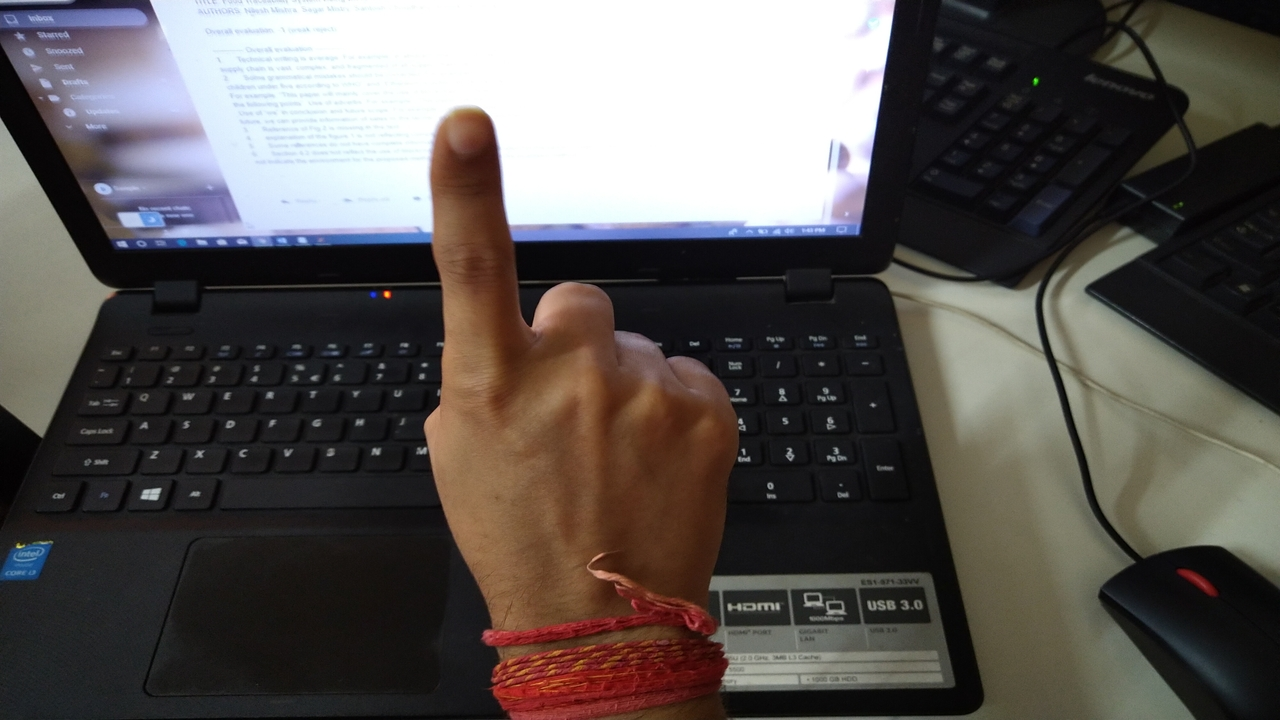fingertip: (426, 106, 501, 172)
